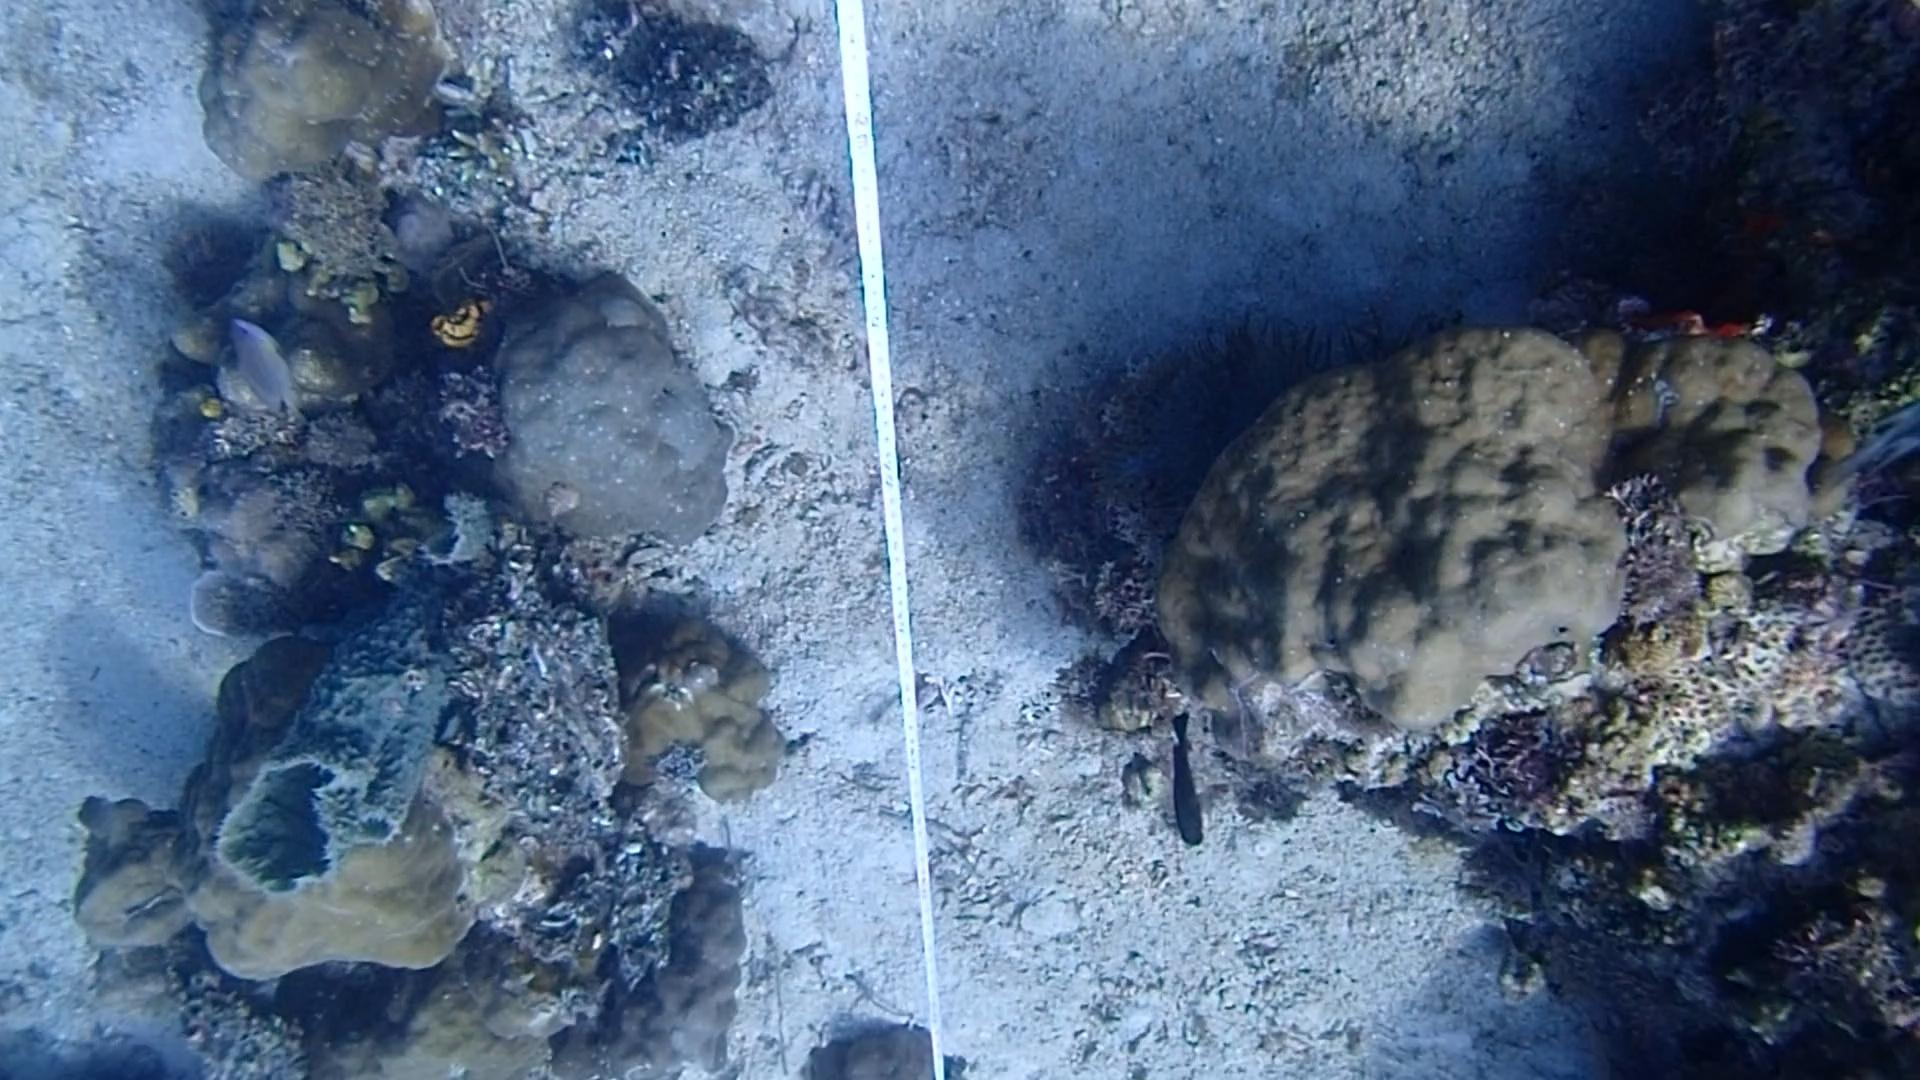Blue Nose Fish: (216, 314, 307, 431)
Dark Fish: (1138, 700, 1224, 857)
